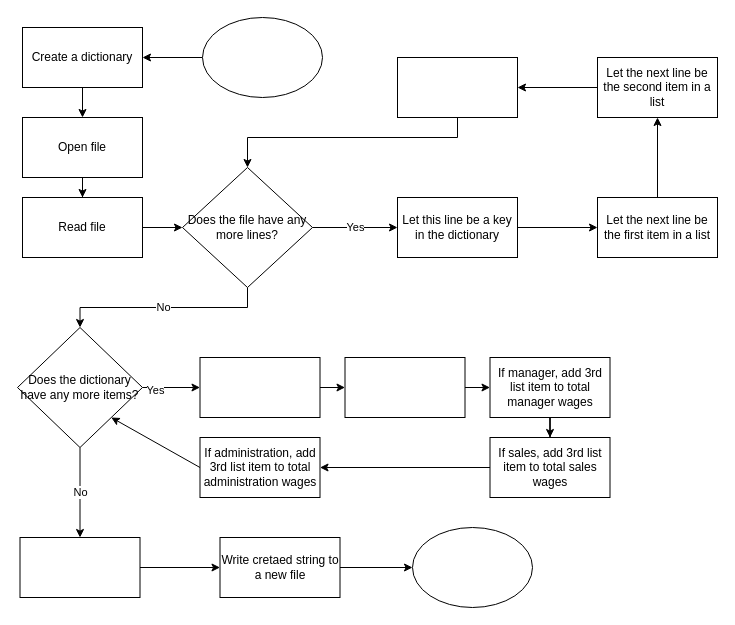
Image size: 735x625. Some labels were removed from this diagram. Each missing label, with the centre of its shape:
"Add 1 to payroll count" belongs at (x=404, y=387).
"Add 3rd list item to total wages" belongs at (x=259, y=387).
"Create formatted f-string with all details on it" belongs at (x=79, y=567).
"End" belongs at (x=472, y=567).
"Let the next line be the third item in a list" belongs at (x=457, y=87).
"Start" belongs at (x=262, y=57).
